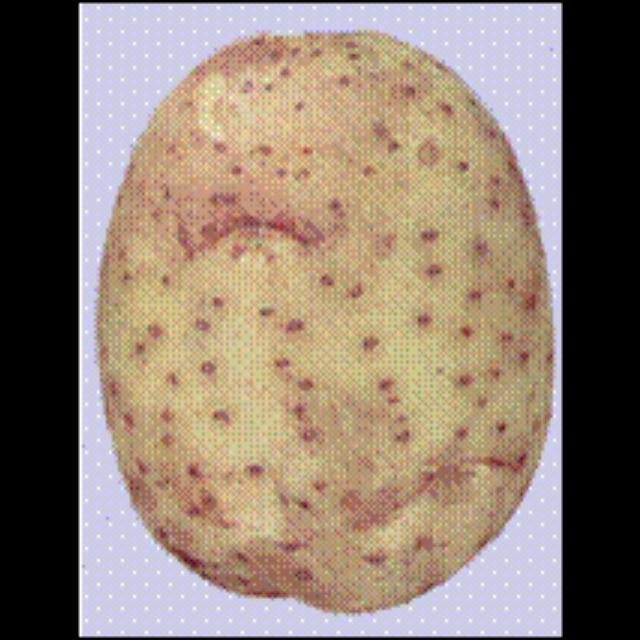Diseased-fungal potato: (102, 42, 552, 618)
